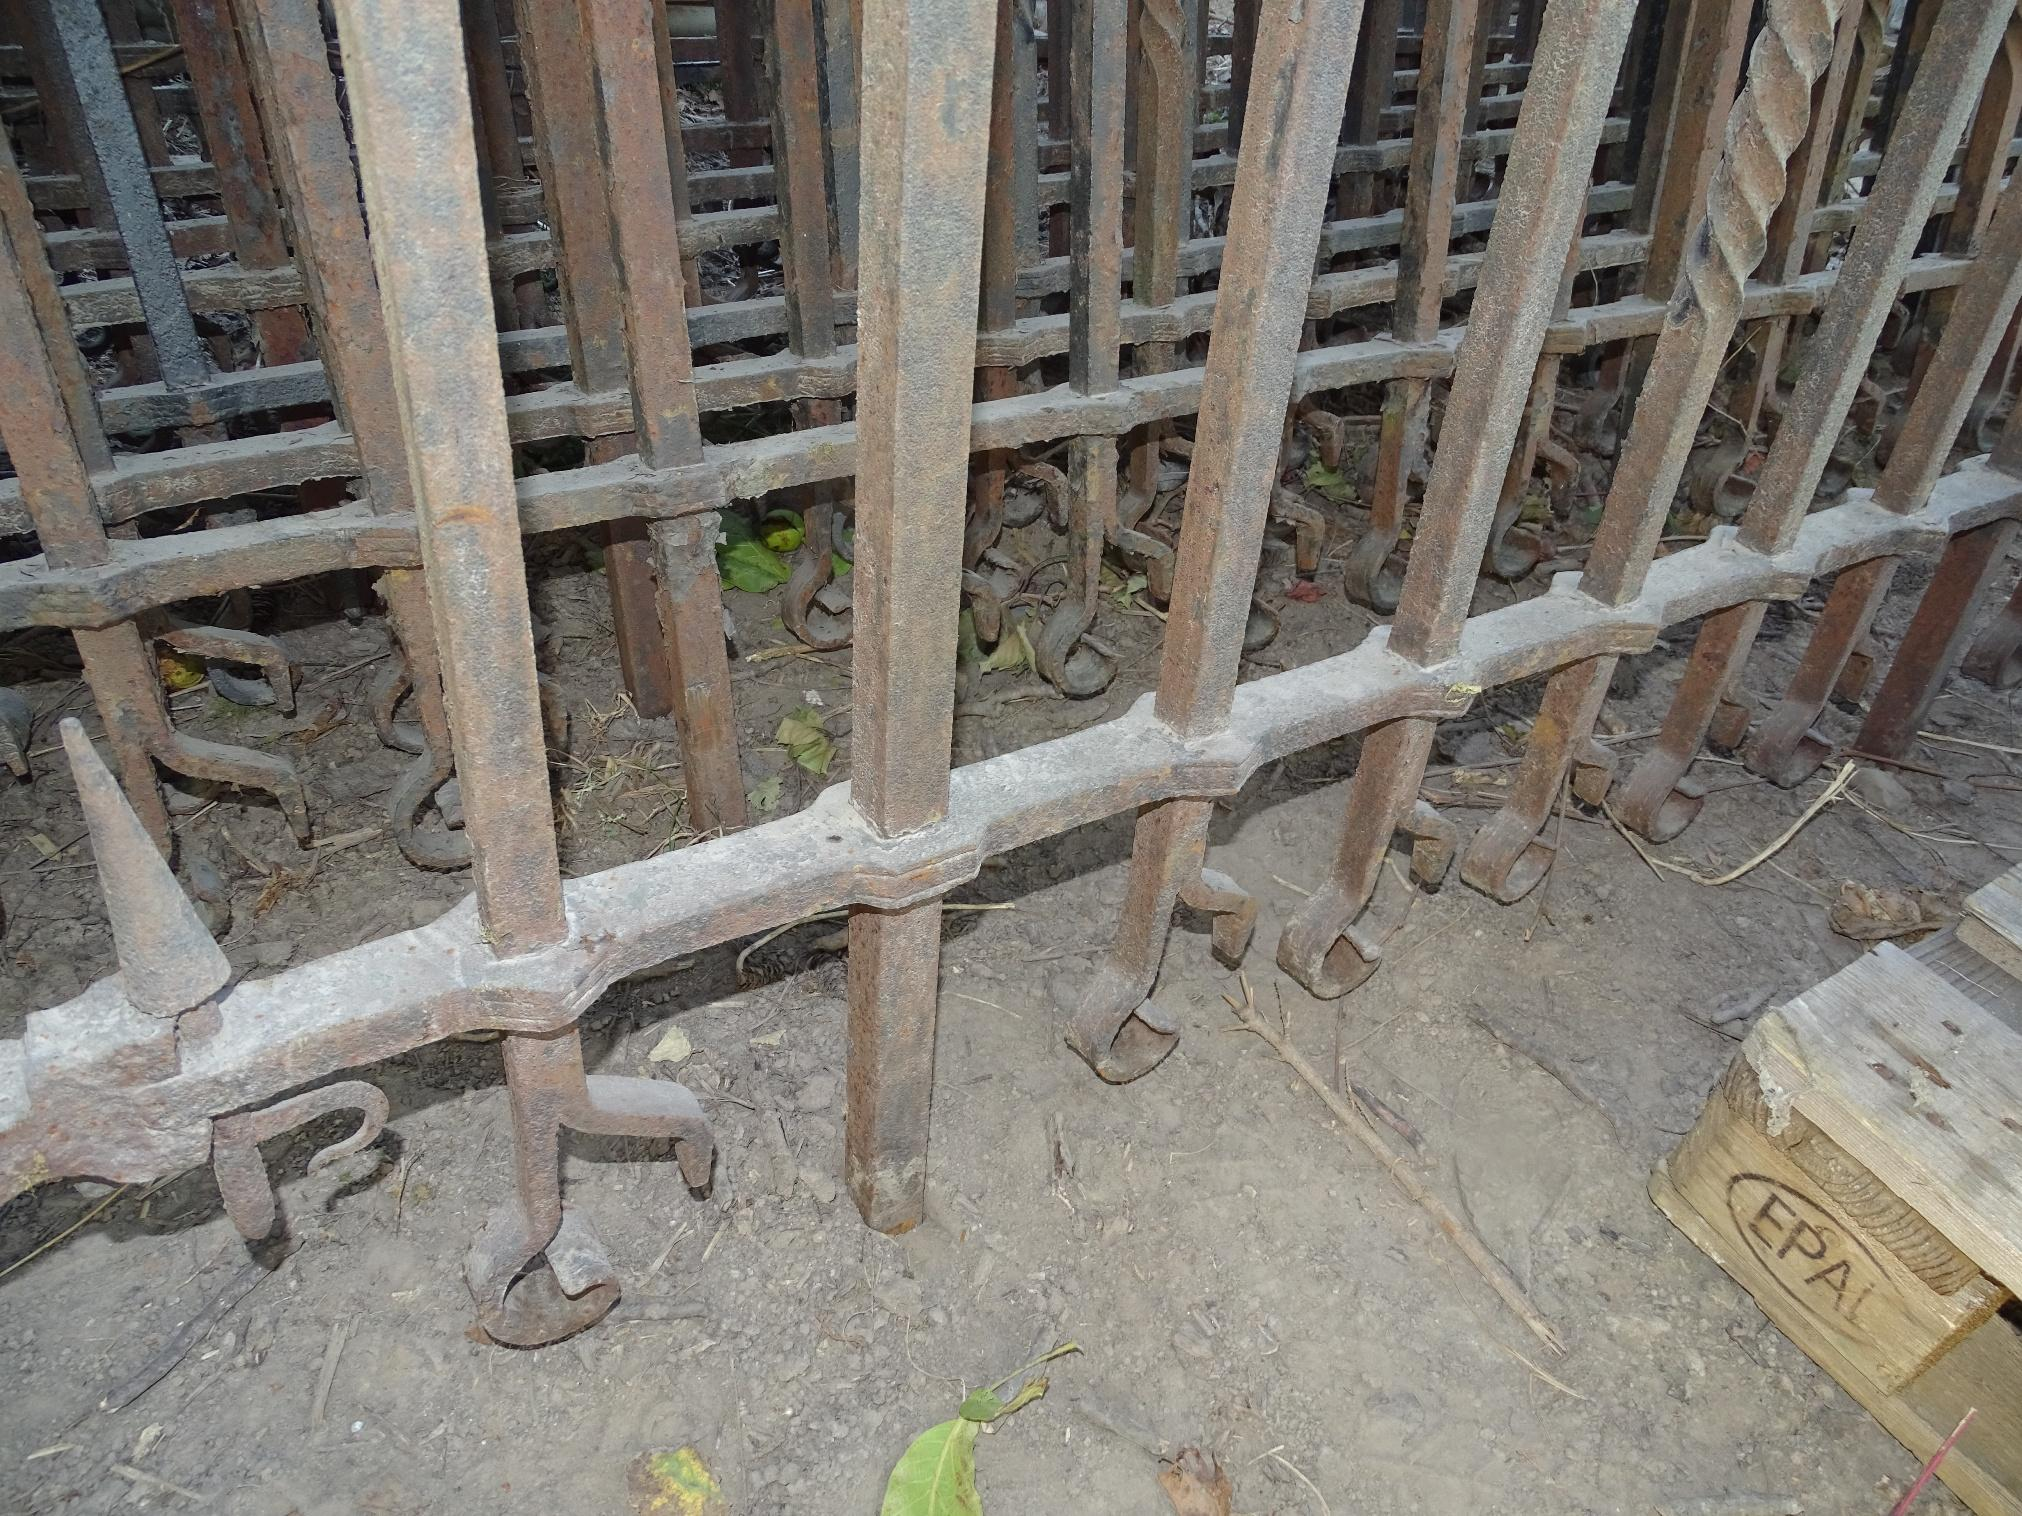obstacle: (460, 0, 2022, 1516)
